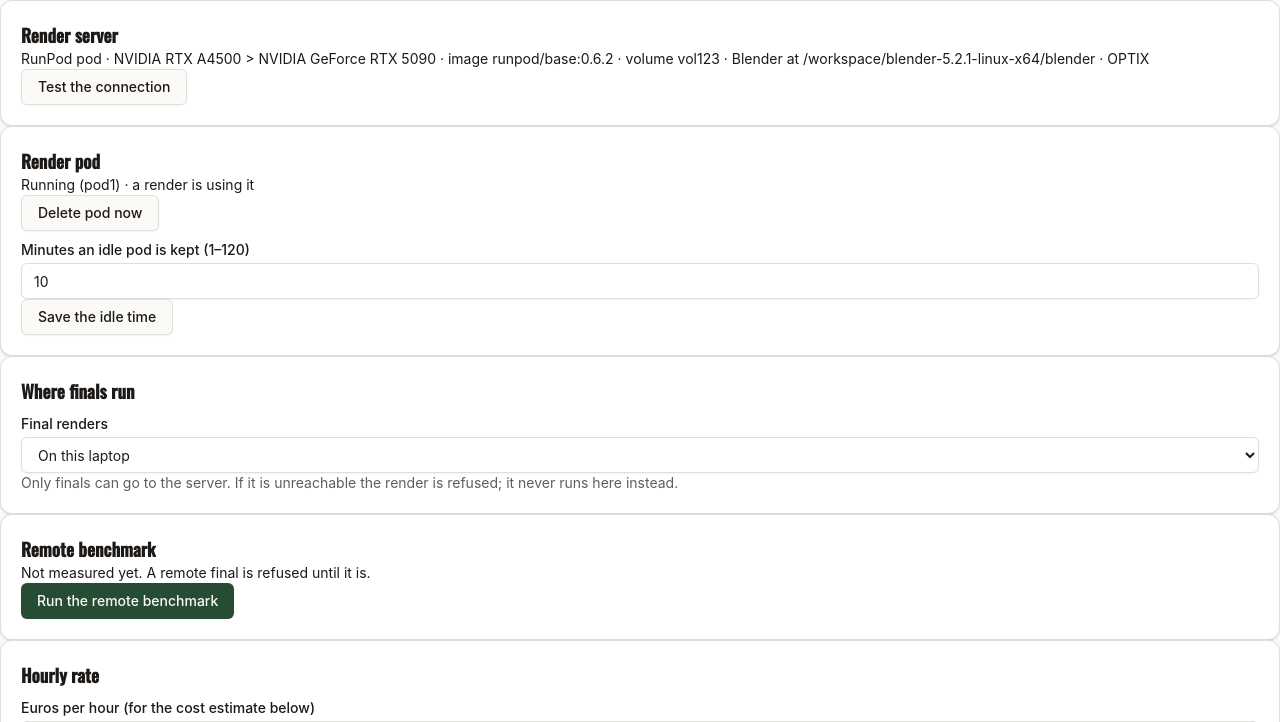
a refused delete during a render is shown
The image size is (1280, 722).
Check: the text "Running (pod1) · a render is using it" is shown, box [21, 176, 254, 193]
Click the button "Delete pod now" at (90, 213), box [21, 195, 159, 231]
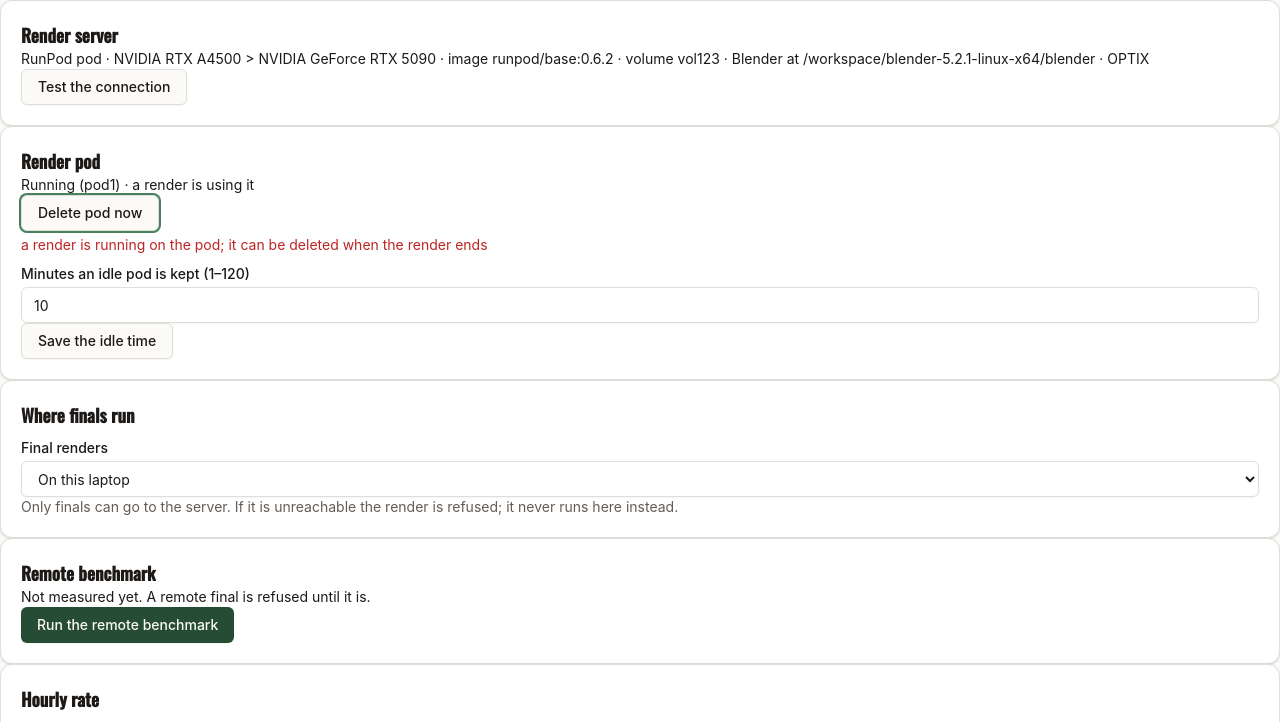
Check: the text "a render is running on the pod; it can be deleted when the render ends" is shown, box [21, 236, 488, 253]
